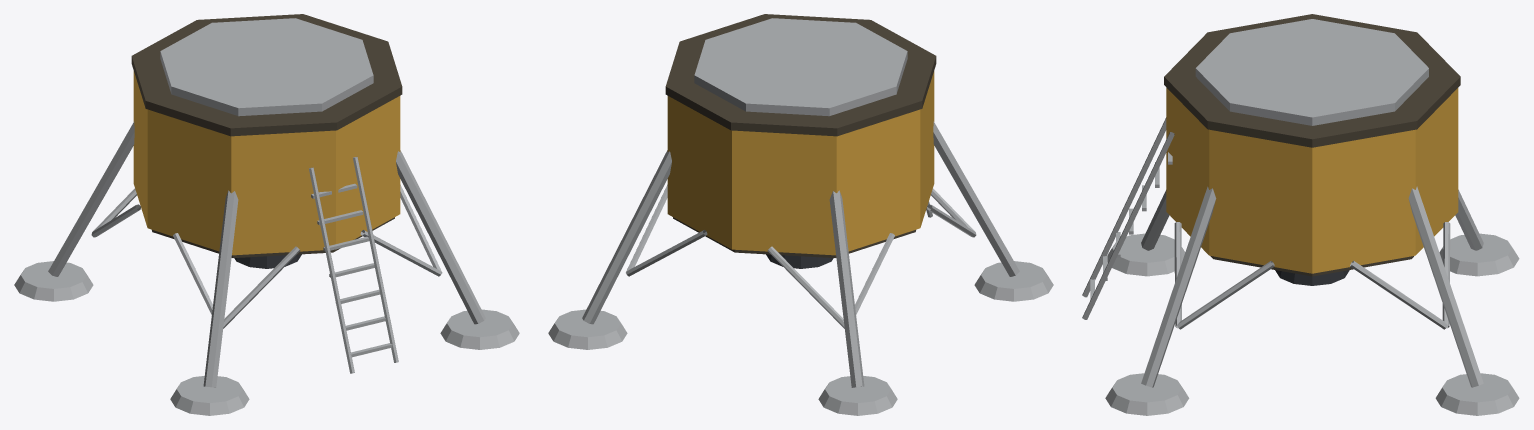
Rendered from landmark_apollo.glb.
The picture shows the model from 3 angles, left to right: view 1: azimuth 30°, elevation 25°; view 2: azimuth 150°, elevation 25°; view 3: azimuth 270°, elevation 25°; orthographic projection. The views are drawn at different scales.
Parts seen in each view (by area): view 1: landmark_apollo_metal, body, landmark_apollo_foil_dark, nozzle; view 2: landmark_apollo_metal, body, landmark_apollo_foil_dark, nozzle; view 3: landmark_apollo_metal, body, landmark_apollo_foil_dark, nozzle.
Boxes of the visible parts, <box> form: landmark_apollo_metal: <box>14,18,519,415</box>; body: <box>133,71,400,255</box>; landmark_apollo_foil_dark: <box>131,14,402,257</box>; nozzle: <box>234,254,301,268</box>; landmark_apollo_metal: <box>548,18,1053,415</box>; body: <box>667,71,934,255</box>; landmark_apollo_foil_dark: <box>665,14,936,257</box>; nozzle: <box>766,254,833,268</box>; landmark_apollo_metal: <box>1082,19,1519,415</box>; body: <box>1166,88,1458,273</box>; landmark_apollo_foil_dark: <box>1164,14,1460,276</box>; nozzle: <box>1275,270,1349,285</box>.
Size of the model in its own units: 3.55 by 2.46 by 3.74.
